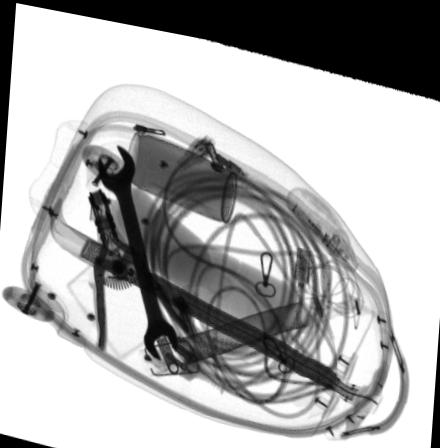Pliers: (86, 182, 189, 347)
Wrench: (97, 140, 178, 354)
